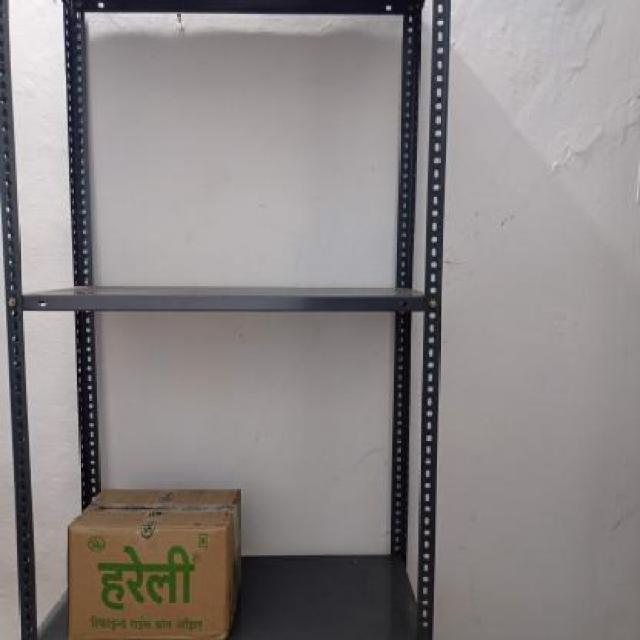box: (65, 523, 230, 640)
